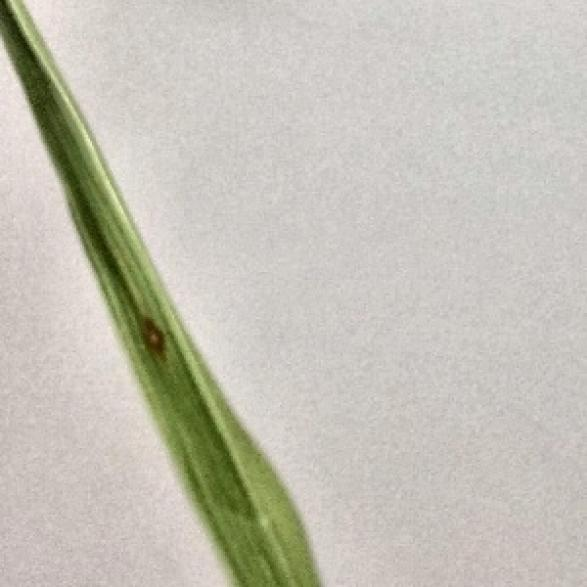Leaf_smut: (106, 290, 174, 370)
